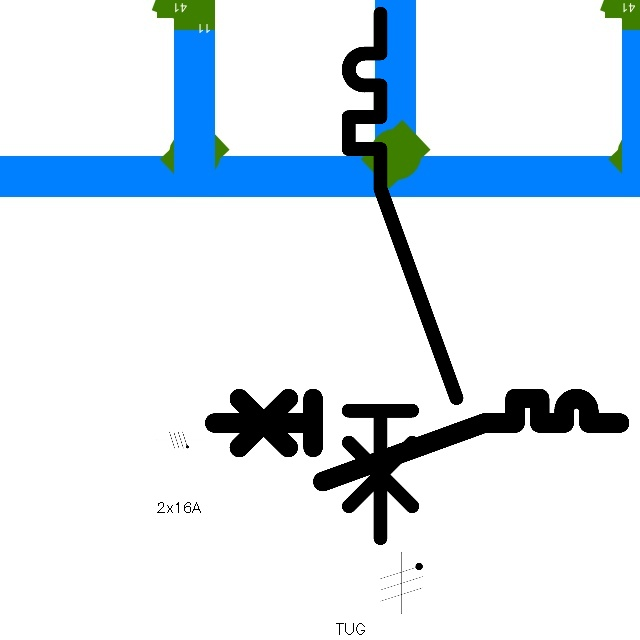interruptor_termomagnetico: (335, 0, 470, 551), (204, 388, 630, 492)
